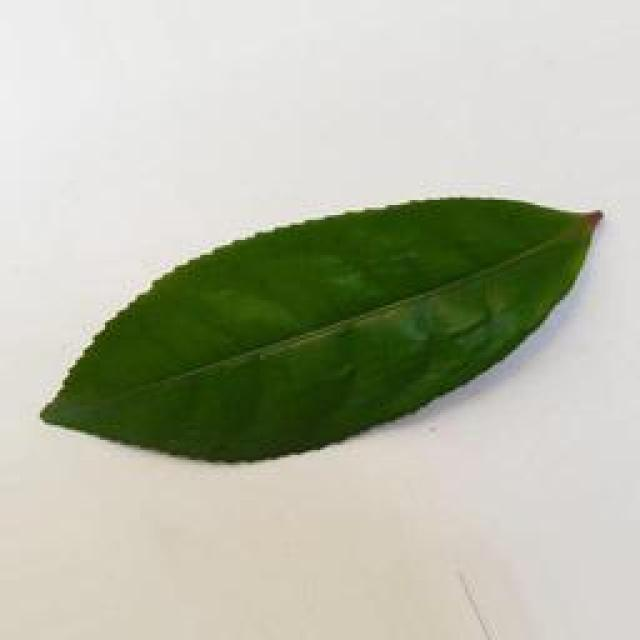Healthy: (49, 183, 602, 459)
